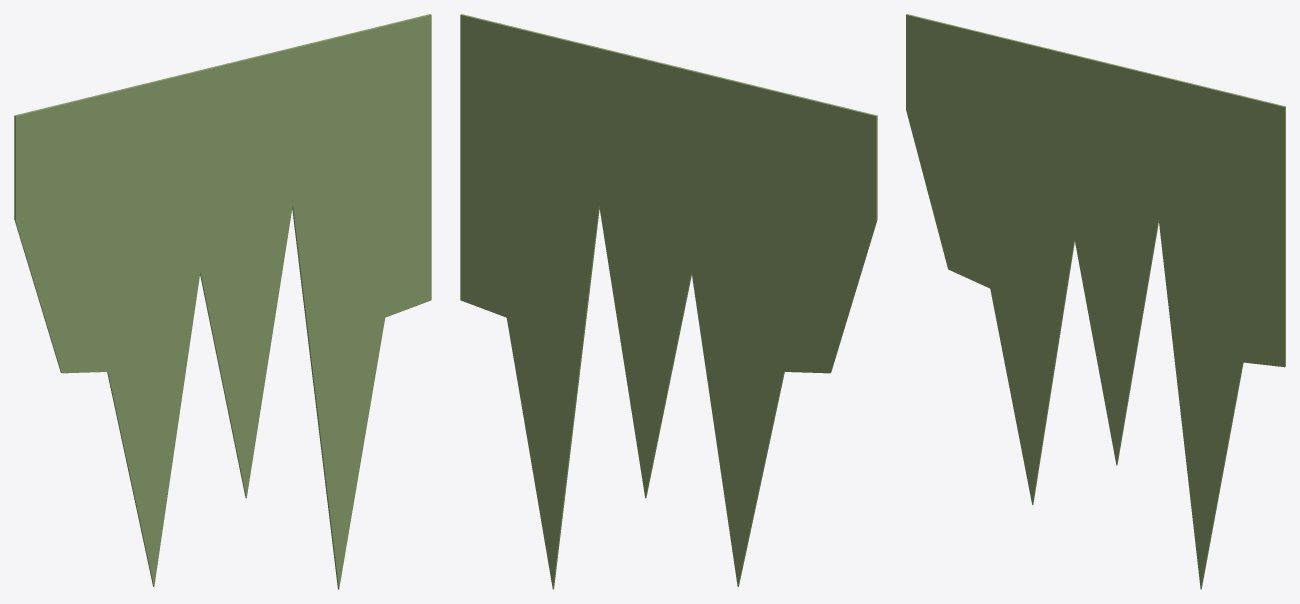
The model's file is moss_a.glb.
The picture shows the model from 3 angles, left to right: view 1: azimuth 30°, elevation 25°; view 2: azimuth 150°, elevation 25°; view 3: azimuth 330°, elevation 25°; orthographic projection. The views are drawn at different scales.
Visible parts, largest first — view 1: moss_a; view 2: moss_a; view 3: moss_a.
Boxes of the visible parts, bbox=[...] form: moss_a: bbox=[14, 14, 431, 589]; moss_a: bbox=[460, 14, 877, 589]; moss_a: bbox=[906, 14, 1285, 589].
Size of the model in its own units: 2 by 2.54 by 0.01.
